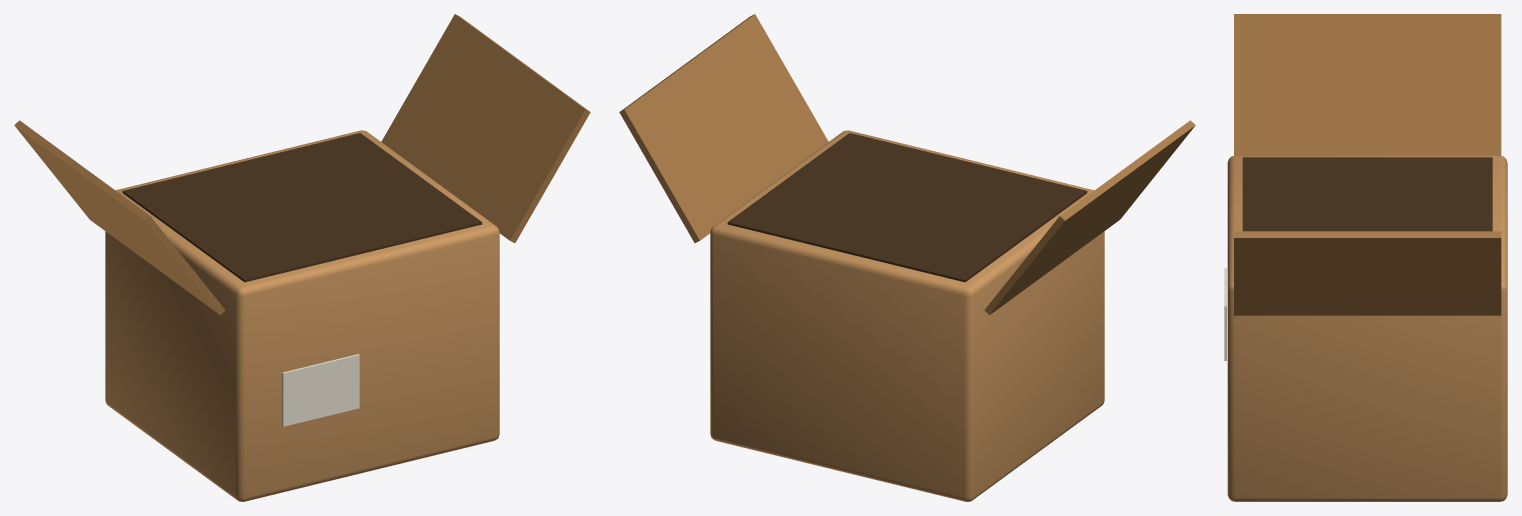
The model's file is box_open.glb.
3 views of the same model, side by side, from view 1: azimuth 30°, elevation 25°; view 2: azimuth 150°, elevation 25°; view 3: azimuth 270°, elevation 25° (orthographic). The views are drawn at different scales.
Parts seen in each view (by area): view 1: body.023, hole.005, flap.003, flap.002, label.003; view 2: body.023, hole.005, flap.003, flap.002; view 3: body.023, flap.002, flap.003, hole.005.
Part boxes in pixels (left/top/right/bottom): body.023: left=105, top=130, right=499, bottom=501; hole.005: left=122, top=133, right=482, bottom=282; flap.003: left=381, top=14, right=590, bottom=242; flap.002: left=14, top=120, right=225, bottom=314; label.003: left=282, top=354, right=359, bottom=426; body.023: left=710, top=130, right=1104, bottom=501; hole.005: left=727, top=133, right=1087, bottom=282; flap.003: left=619, top=14, right=828, bottom=242; flap.002: left=984, top=120, right=1195, bottom=314; body.023: left=1227, top=155, right=1507, bottom=501; flap.002: left=1234, top=14, right=1501, bottom=155; flap.003: left=1234, top=231, right=1501, bottom=315; hole.005: left=1242, top=157, right=1492, bottom=231.
Size of the model in its own units: 1.05 by 0.6949 by 0.5645.
